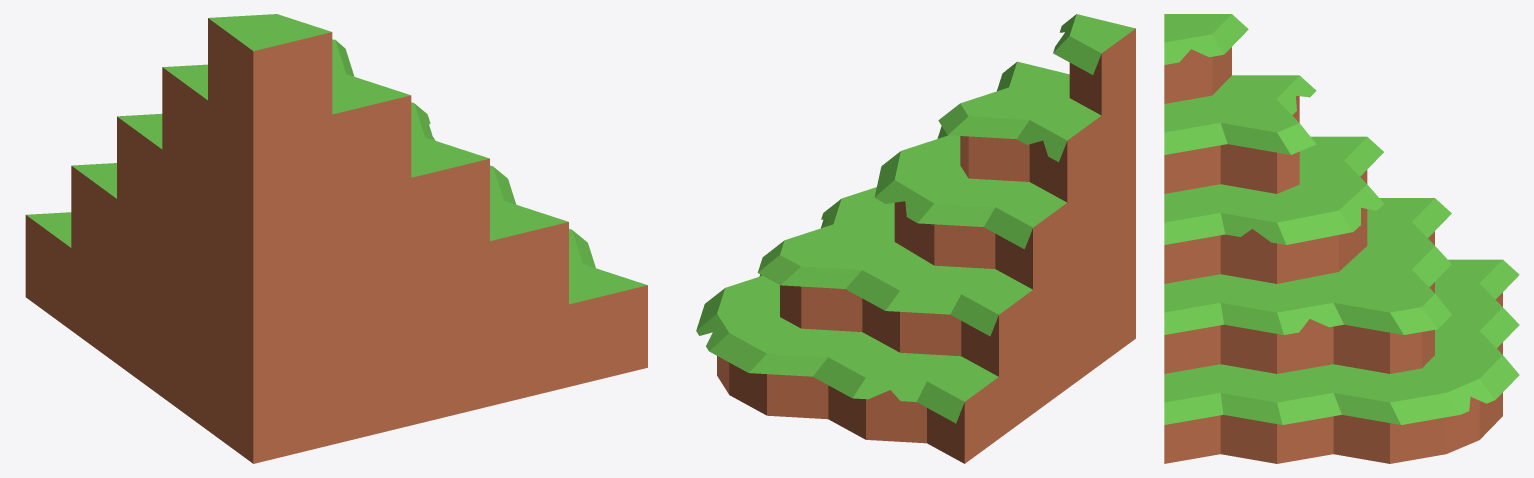
The model's file is cliff_stepsCorner_rock.glb.
3 renders of one model, left to right at view 1: azimuth 30°, elevation 25°; view 2: azimuth 150°, elevation 25°; view 3: azimuth 270°, elevation 25°, orthographic. The views are drawn at different scales.
Parts seen in each view (by area): view 1: cliff_stepsCorner_rock; view 2: cliff_stepsCorner_rock; view 3: cliff_stepsCorner_rock.
Boxes of the visible parts, x1,y1,x2,y2 form: cliff_stepsCorner_rock: (25,14,647,463); cliff_stepsCorner_rock: (696,14,1135,463); cliff_stepsCorner_rock: (1164,14,1519,463).
Bounding box in the file's own units: 1.05 × 1 × 1.05.
